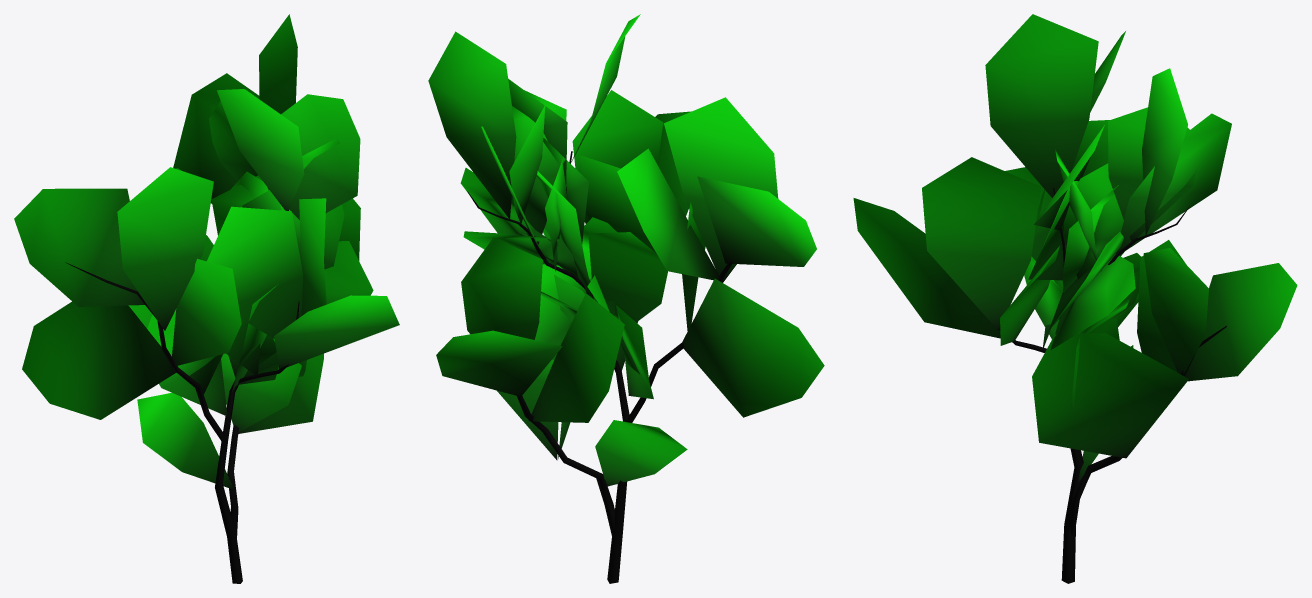
The model's file is Oak_Small_5_LOD_1.fbx.
3 renders of one model, left to right at view 1: azimuth 30°, elevation 25°; view 2: azimuth 150°, elevation 25°; view 3: azimuth 270°, elevation 25°, orthographic. The views are drawn at different scales.
Visible parts, largest first — view 1: Oak_Small_5_LOD_1; view 2: Oak_Small_5_LOD_1; view 3: Oak_Small_5_LOD_1.
Part boxes in pixels (x1,y1,x2,y2): Oak_Small_5_LOD_1: (14,14,399,583); Oak_Small_5_LOD_1: (428,14,824,583); Oak_Small_5_LOD_1: (853,14,1297,583).
Bounding box in the file's own units: 4.22 × 6.14 × 4.36.
